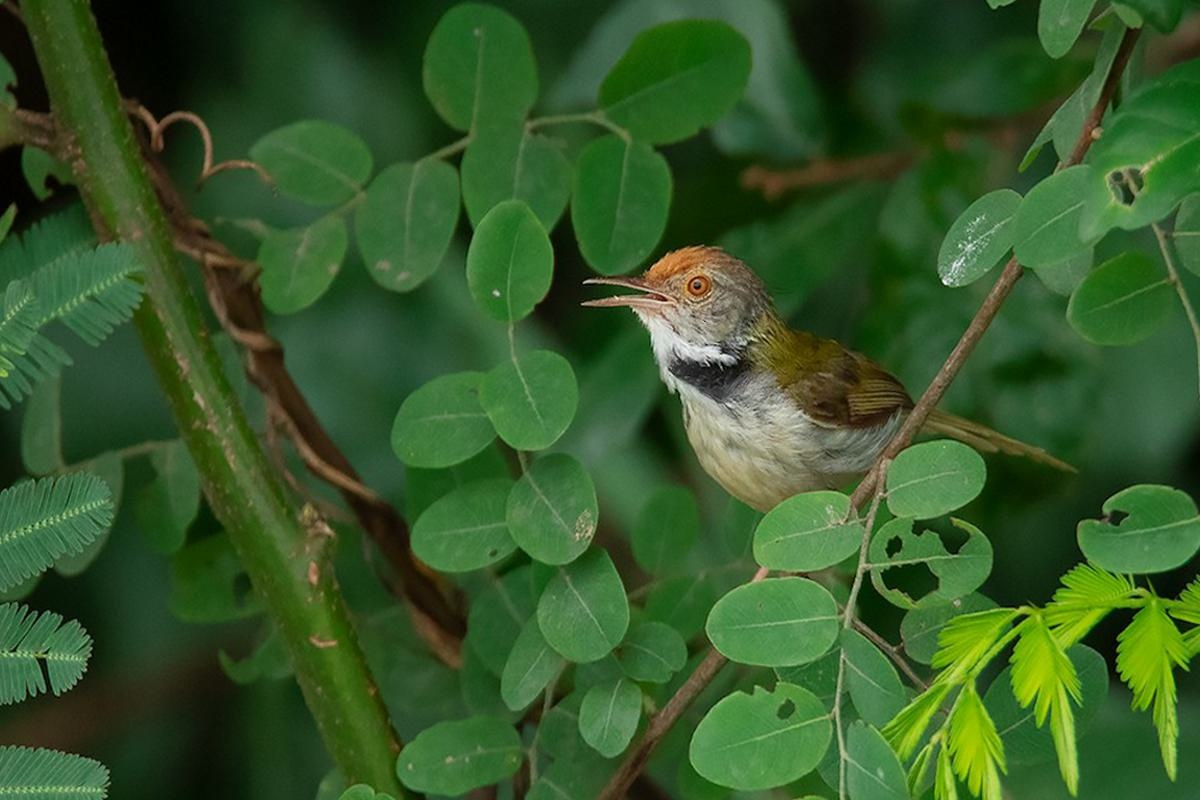tailorbird: (581, 222, 1086, 522)
